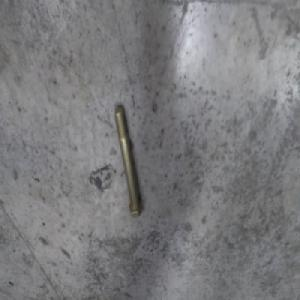Bolt: (115, 104, 143, 217)
